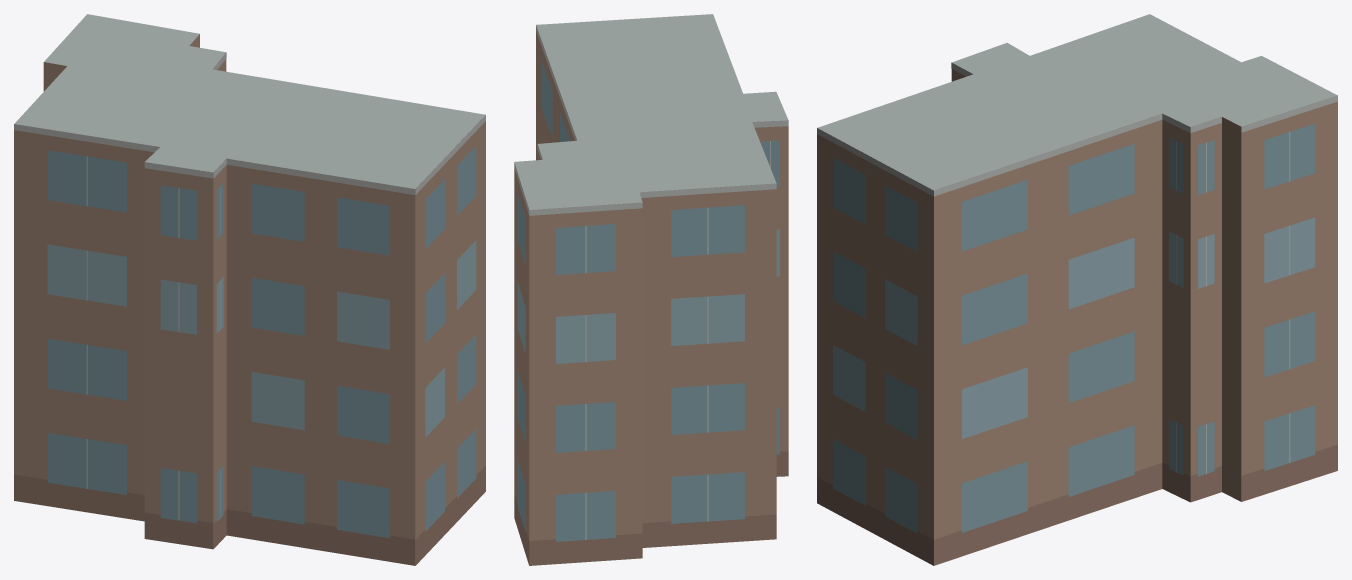
Rendered from survey-upis-32734337.glb.
3 renders of one model, left to right at view 1: azimuth 30°, elevation 25°; view 2: azimuth 150°, elevation 25°; view 3: azimuth 270°, elevation 25°, orthographic. The views are drawn at different scales.
Parts seen in each view (by area): view 1: survey-upis-32734337.tmp; view 2: survey-upis-32734337.tmp; view 3: survey-upis-32734337.tmp.
Boxes of the visible parts, x1,y1,x2,y2 form: survey-upis-32734337.tmp: (14,14,485,565); survey-upis-32734337.tmp: (514,14,788,565); survey-upis-32734337.tmp: (817,14,1337,565).
Bounding box in the file's own units: 15.14 × 15 × 18.87.
